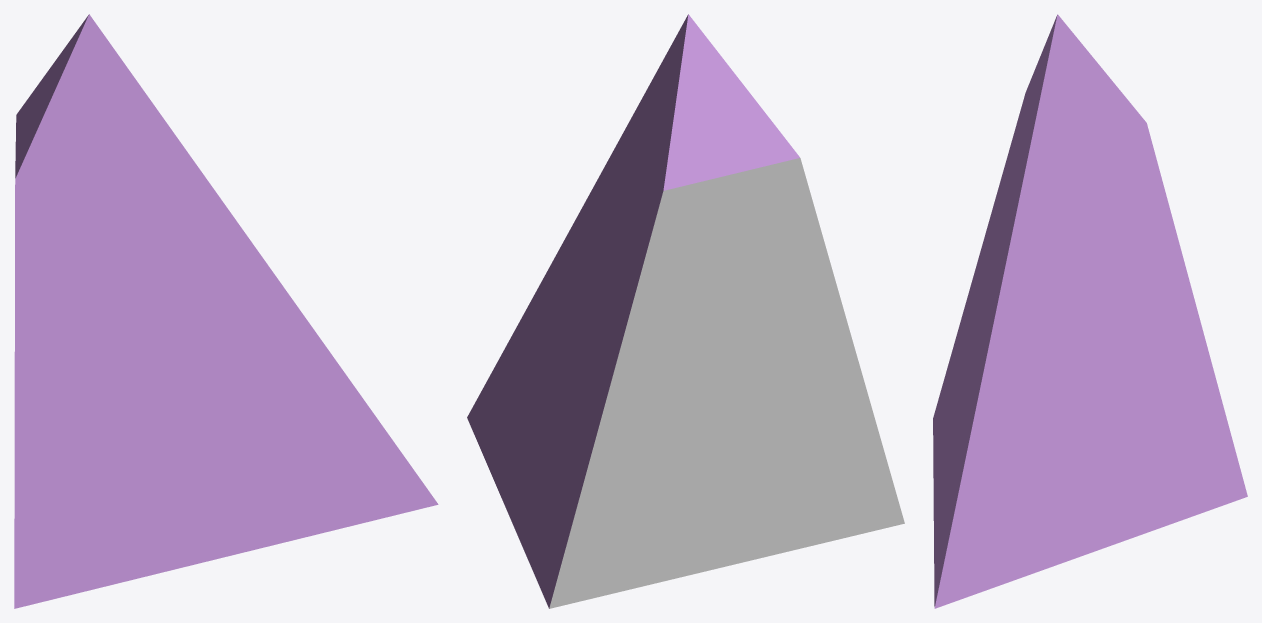
3 views of the same model, side by side, from view 1: azimuth 30°, elevation 25°; view 2: azimuth 150°, elevation 25°; view 3: azimuth 270°, elevation 25° (orthographic). The views are drawn at different scales.
Visible parts, largest first — view 1: Circle; view 2: Circle; view 3: Circle.
Part boxes in pixels (x1,y1,x2,y2): Circle: (14,14,438,608); Circle: (467,14,904,608); Circle: (933,14,1247,608).
Size of the model in its own units: 2.83 by 3.24 by 1.98.
